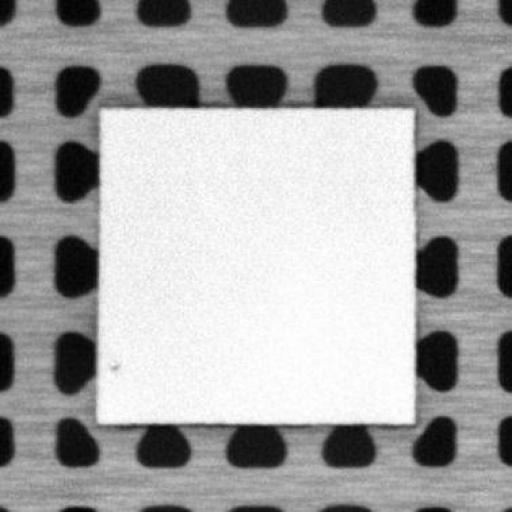DIE_INK: (103, 356, 122, 372)
